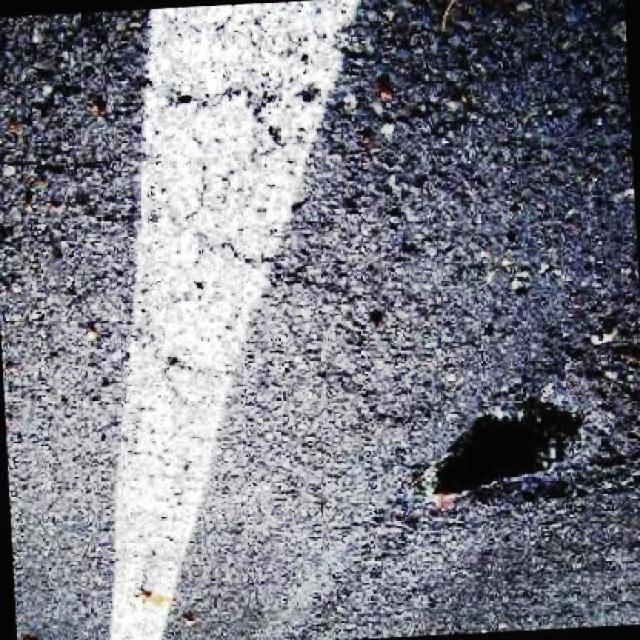pothole: (422, 377, 603, 514)
